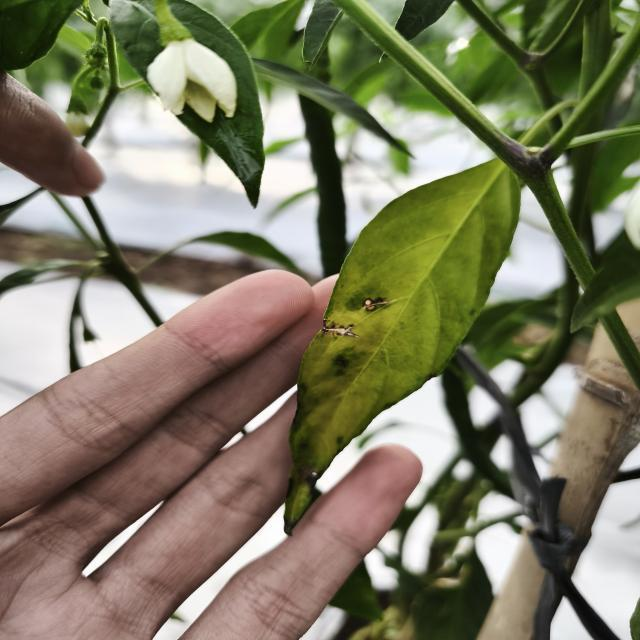Virus Kuning: (282, 155, 522, 536)
